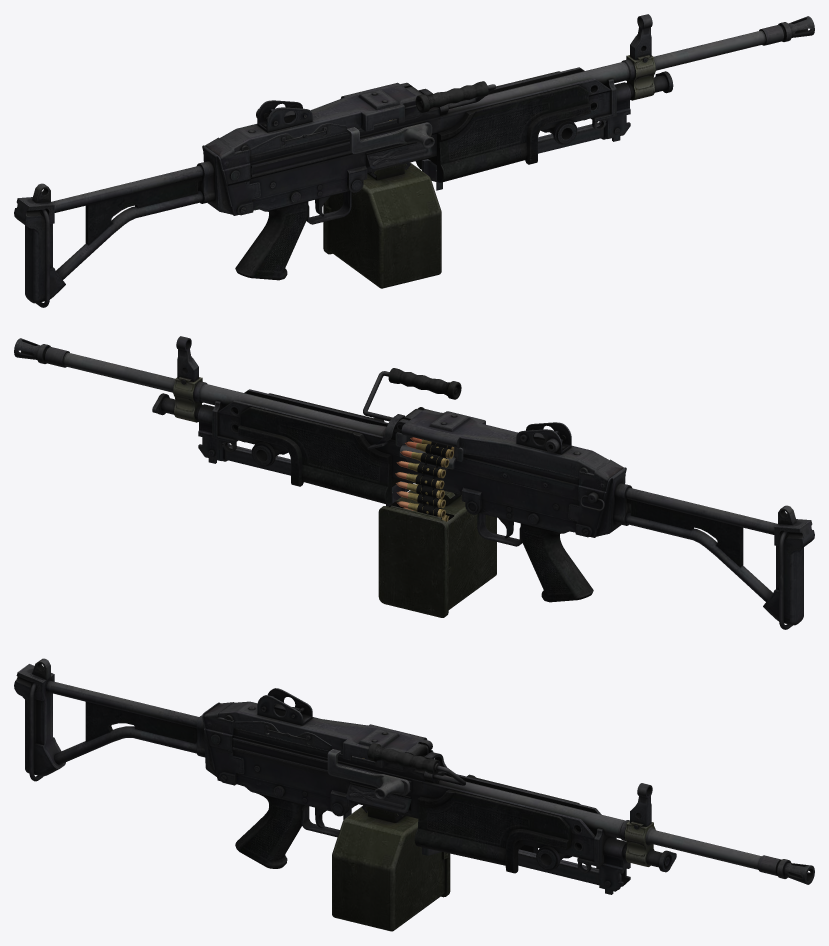
File: lmg.glb
3 renders of one model, top to bottom at view 1: azimuth 30°, elevation 25°; view 2: azimuth 150°, elevation 25°; view 3: azimuth 330°, elevation 25°, orthographic.
Parts seen in each view (by area): view 1: base, mag, cover, loader, handle, ejector, loaderlid; view 2: base, mag, cover, handle; view 3: base, mag, cover, loader, handle, loaderlid, ejector.
Part boxes in pixels (bbox=[...]): base: bbox=[14, 14, 814, 307]; mag: bbox=[323, 162, 441, 288]; cover: bbox=[220, 82, 422, 155]; loader: bbox=[347, 122, 434, 153]; handle: bbox=[415, 81, 496, 112]; ejector: bbox=[366, 142, 432, 169]; loaderlid: bbox=[250, 123, 346, 155]; base: bbox=[14, 336, 814, 629]; mag: bbox=[378, 490, 496, 617]; cover: bbox=[396, 407, 608, 477]; handle: bbox=[363, 368, 461, 421]; base: bbox=[14, 658, 814, 894]; mag: bbox=[332, 806, 450, 931]; cover: bbox=[219, 688, 432, 769]; loader: bbox=[327, 749, 409, 799]; handle: bbox=[367, 743, 465, 785]; loaderlid: bbox=[234, 721, 331, 750]; ejector: bbox=[346, 783, 411, 813].
Bounding box in the file's own units: 1.01 × 0.2338 × 0.1303.
1 material, 1 textured.
